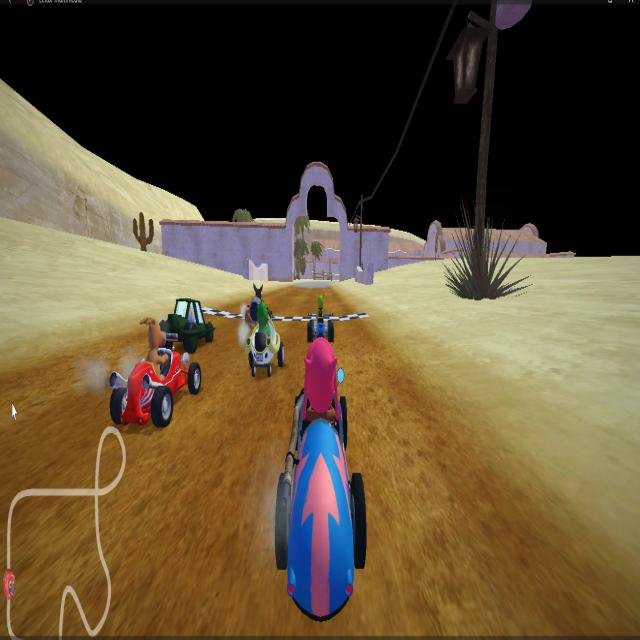enemy_kart: (112, 326, 208, 418), (244, 286, 282, 378), (302, 289, 340, 337)
player_kart: (271, 346, 377, 610)
